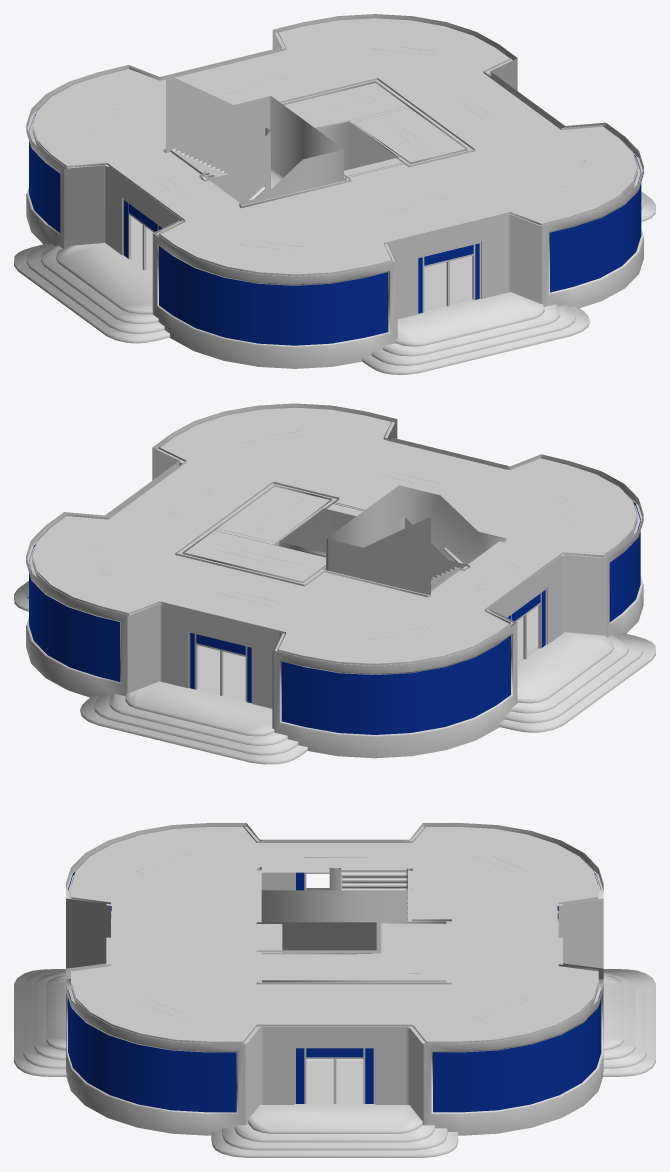
Rendered from E_ground.fbx.
3 renders of one model, top to bottom at view 1: azimuth 30°, elevation 25°; view 2: azimuth 150°, elevation 25°; view 3: azimuth 270°, elevation 25°, orthographic.
Parts seen in each view (by area): view 1: E_ground, E_ground_outwall, E_ground_glass; view 2: E_ground, E_ground_outwall, E_ground_glass; view 3: E_ground, E_ground_outwall, E_ground_glass.
Boxes of the visible parts, x1=… form: E_ground: x1=14, y1=16, x2=655, y2=374; E_ground_outwall: x1=26, y1=14, x2=643, y2=368; E_ground_glass: x1=29, y1=114, x2=641, y2=345; E_ground: x1=14, y1=406, x2=655, y2=764; E_ground_outwall: x1=26, y1=403, x2=643, y2=758; E_ground_glass: x1=29, y1=501, x2=640, y2=734; E_ground: x1=14, y1=825, x2=655, y2=1157; E_ground_outwall: x1=66, y1=823, x2=603, y2=1135; E_ground_glass: x1=68, y1=871, x2=601, y2=1112.
Bounding box in the file's own units: 43.56 × 12.78 × 44.39.
